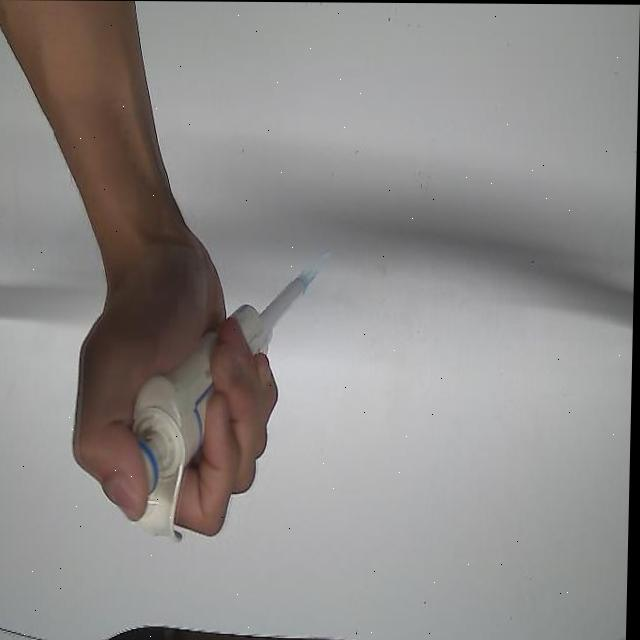Micropipette Tip 1000 uL: (295, 243, 337, 294)
Single Channel Pipettor: (127, 267, 316, 543)
